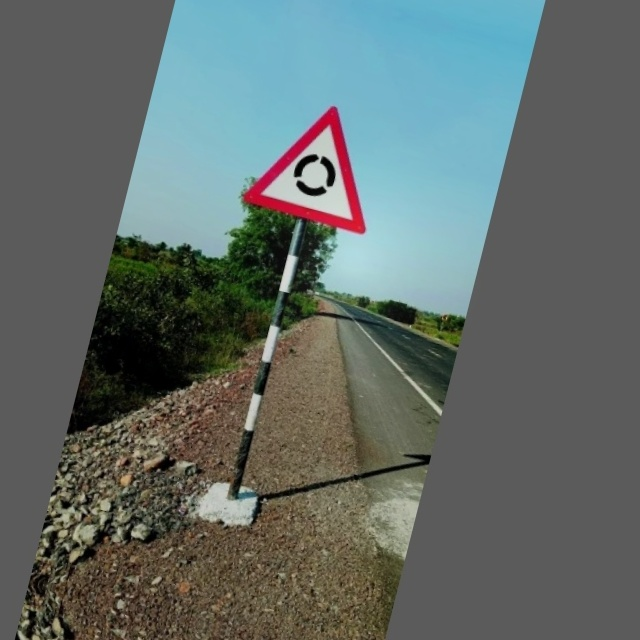Round_About: (244, 89, 396, 236)
